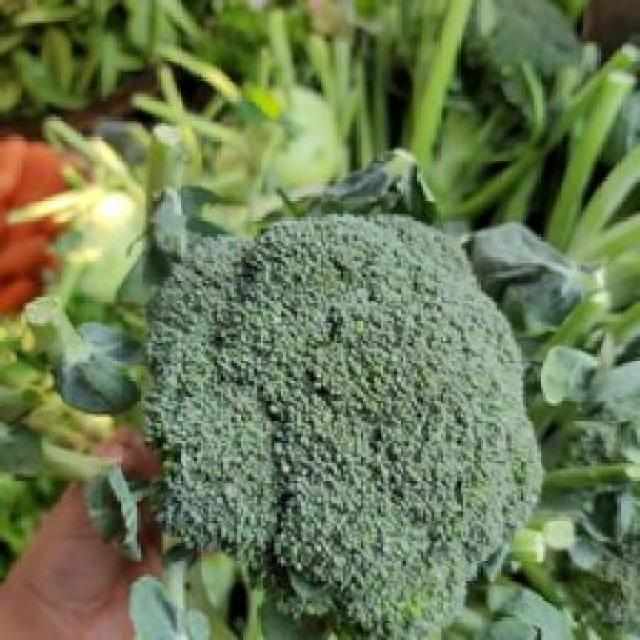broccoli: (102, 226, 555, 623)
